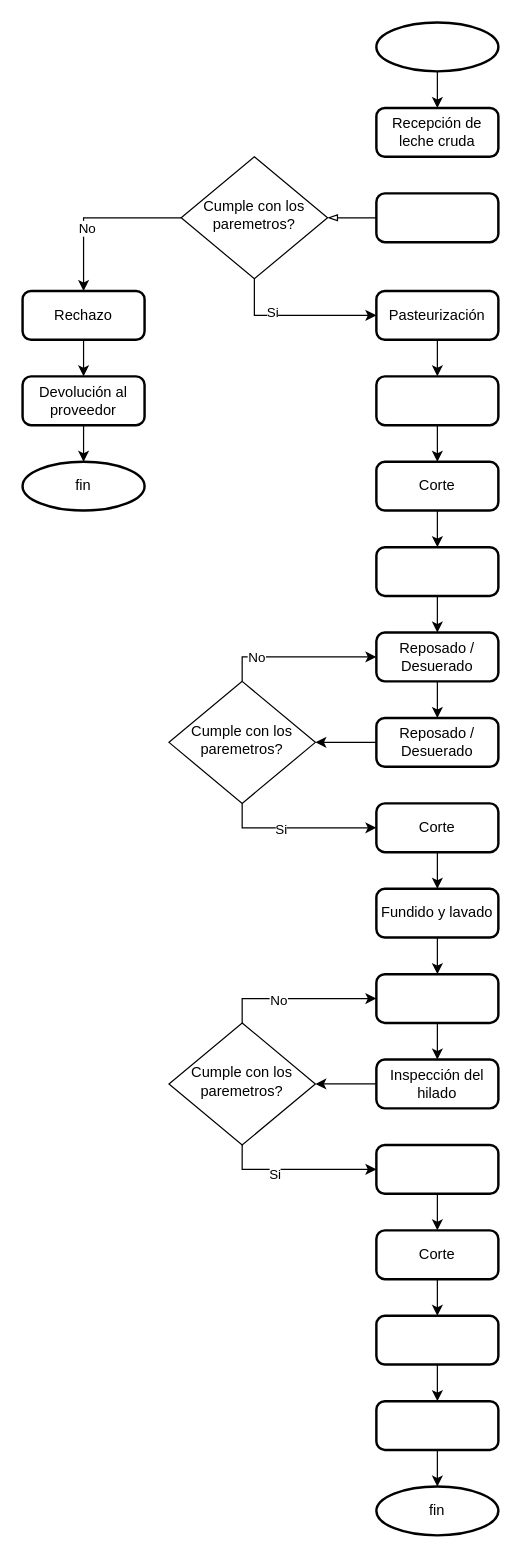
This 520x1557 diagram has some shape labels left out. Here are the shapes that lost their labels. From the top down, the centre of each, then its label:
pixel 437 46: Inicio
pixel 437 217: Inspección de acidez
pixel 437 400: Cuajado
pixel 437 571: Madurez
pixel 437 998: Hilado
pixel 437 1168: Salado
pixel 437 1339: Empacado
pixel 437 1425: Refrigeriación
